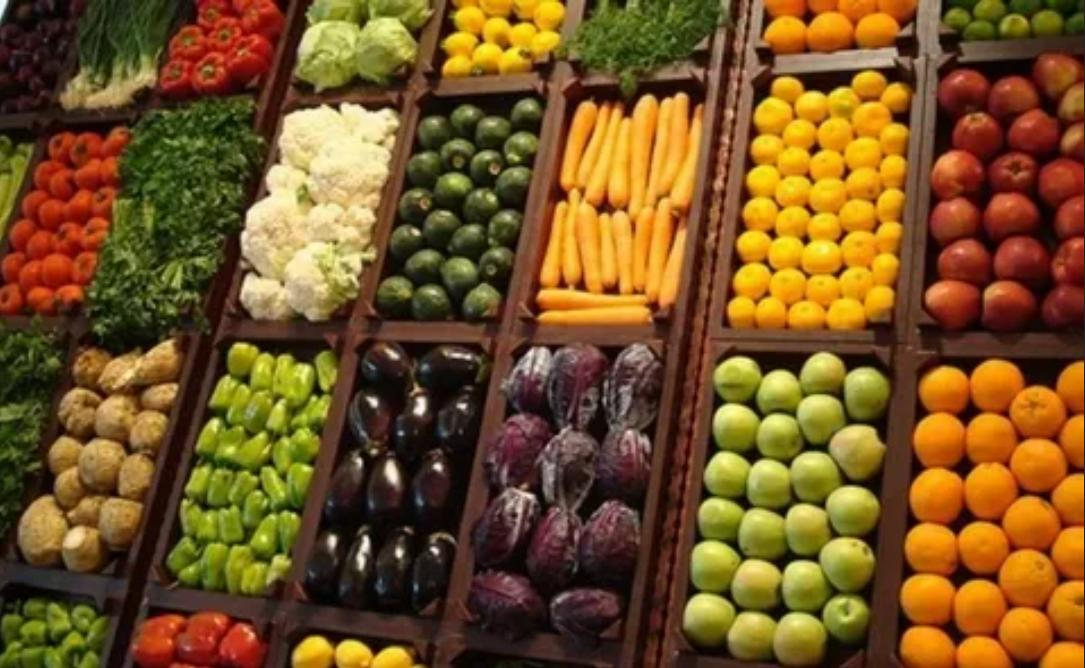carrot: (536, 90, 704, 326)
eggplant: (308, 346, 490, 614)
green apple: (684, 357, 889, 666)
lemon: (442, 0, 568, 82)
mandarin: (726, 69, 913, 329)
orange: (899, 360, 1085, 668)
red apple: (928, 54, 1085, 336)
sweet pepper: (164, 342, 339, 596), (158, 0, 292, 99)
tomato: (0, 120, 122, 317)
